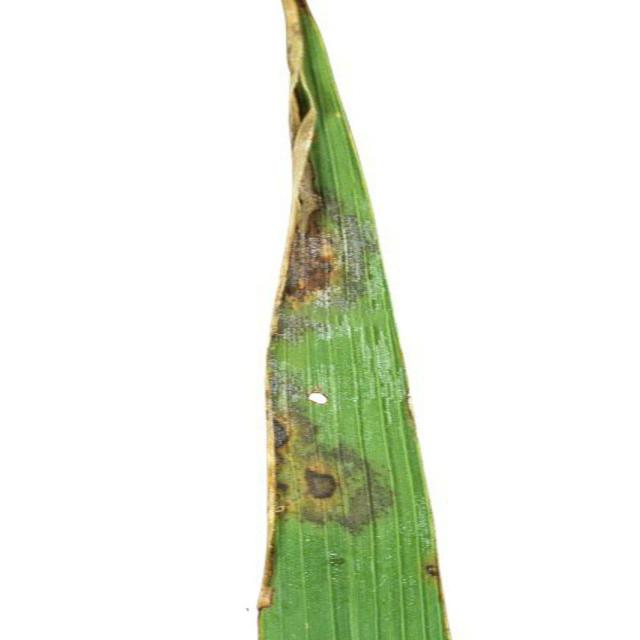Leaf scald: (207, 0, 462, 640)
